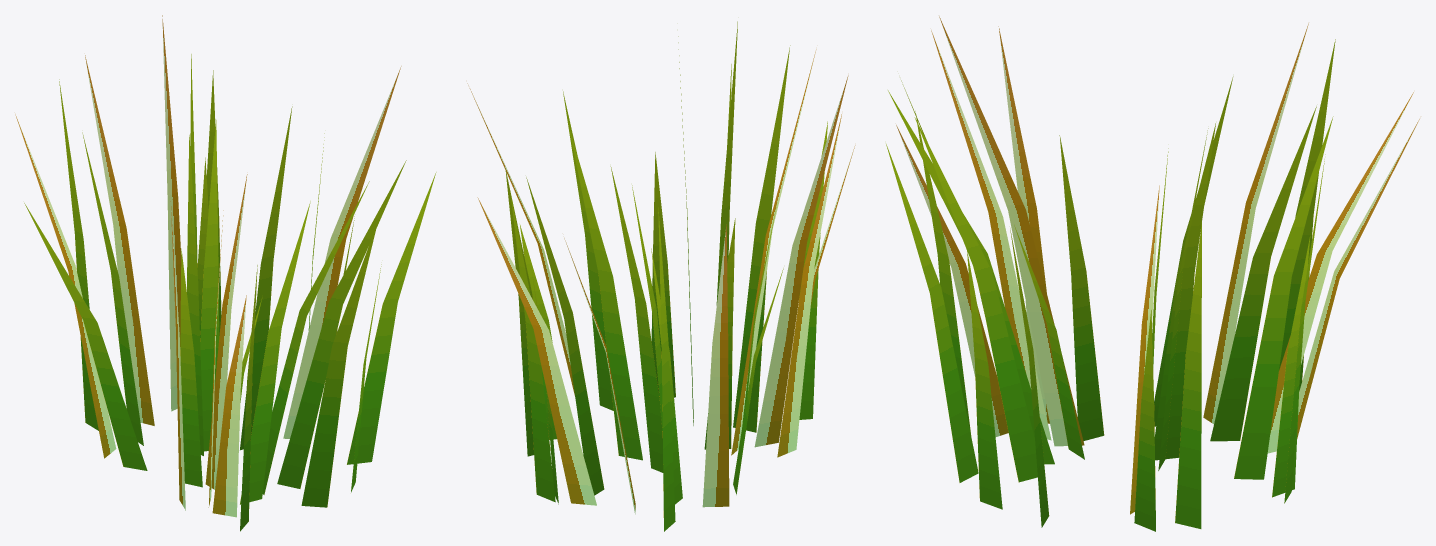
The model's file is grass_tall.glb.
3 renders of one model, left to right at view 1: azimuth 30°, elevation 25°; view 2: azimuth 150°, elevation 25°; view 3: azimuth 270°, elevation 25°, orthographic. The views are drawn at different scales.
Parts seen in each view (by area): view 1: grass_tall_Grass_Blade, grass_tall_Grass_BladeLight; view 2: grass_tall_Grass_Blade, grass_tall_Grass_BladeLight; view 3: grass_tall_Grass_Blade, grass_tall_Grass_BladeLight.
Part boxes in pixels (x1,y1,x2,y2): grass_tall_Grass_Blade: (24, 54, 436, 531); grass_tall_Grass_BladeLight: (15, 15, 401, 517); grass_tall_Grass_Blade: (505, 21, 827, 531); grass_tall_Grass_BladeLight: (467, 49, 855, 514); grass_tall_Grass_Blade: (886, 39, 1335, 531); grass_tall_Grass_BladeLight: (896, 16, 1419, 514).
Size of the model in its own units: 1.07 by 1.07 by 1.25.
2 materials, 2 textured.
